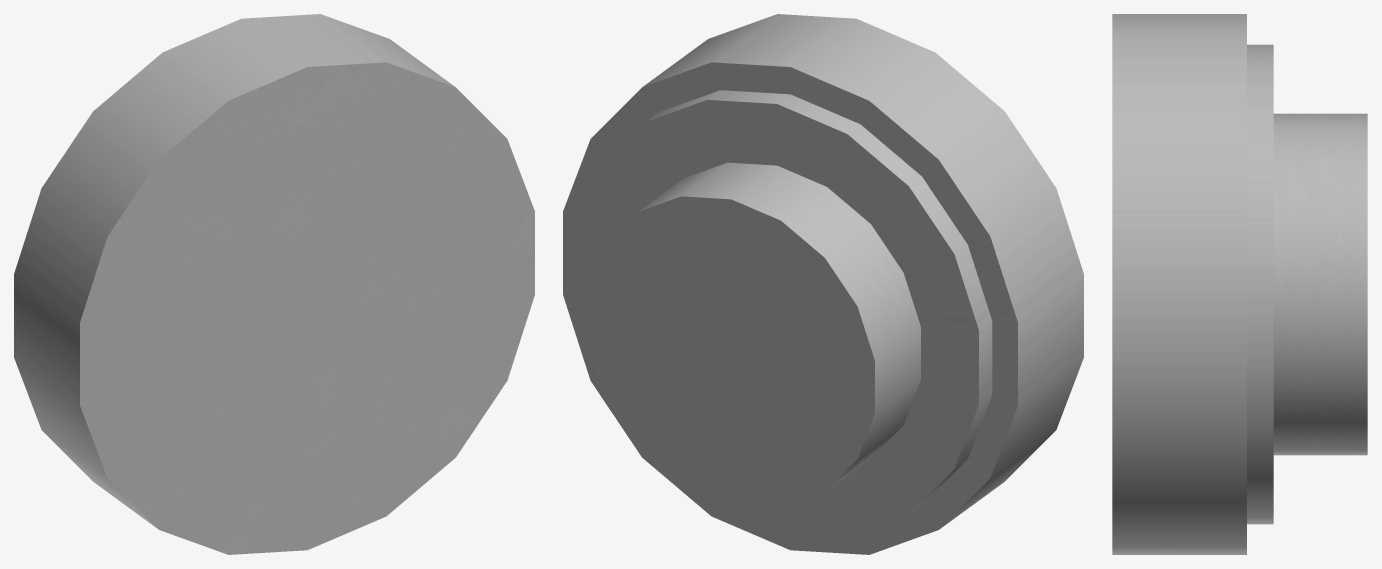
File: EndCylin.fbx
3 renders of one model, left to right at view 1: azimuth 30°, elevation 25°; view 2: azimuth 150°, elevation 25°; view 3: azimuth 270°, elevation 25°, orthographic.
Parts seen in each view (by area): view 1: Cylinder.064; view 2: Cylinder.064; view 3: Cylinder.064.
Boxes of the visible parts, box(x1,y1,x2,y2) form: Cylinder.064: box(14, 14, 534, 554); Cylinder.064: box(563, 14, 1083, 554); Cylinder.064: box(1112, 14, 1367, 554).
Size of the model in its own units: 275 by 280 by 132.
Materials: 1 (1 with a texture image).
